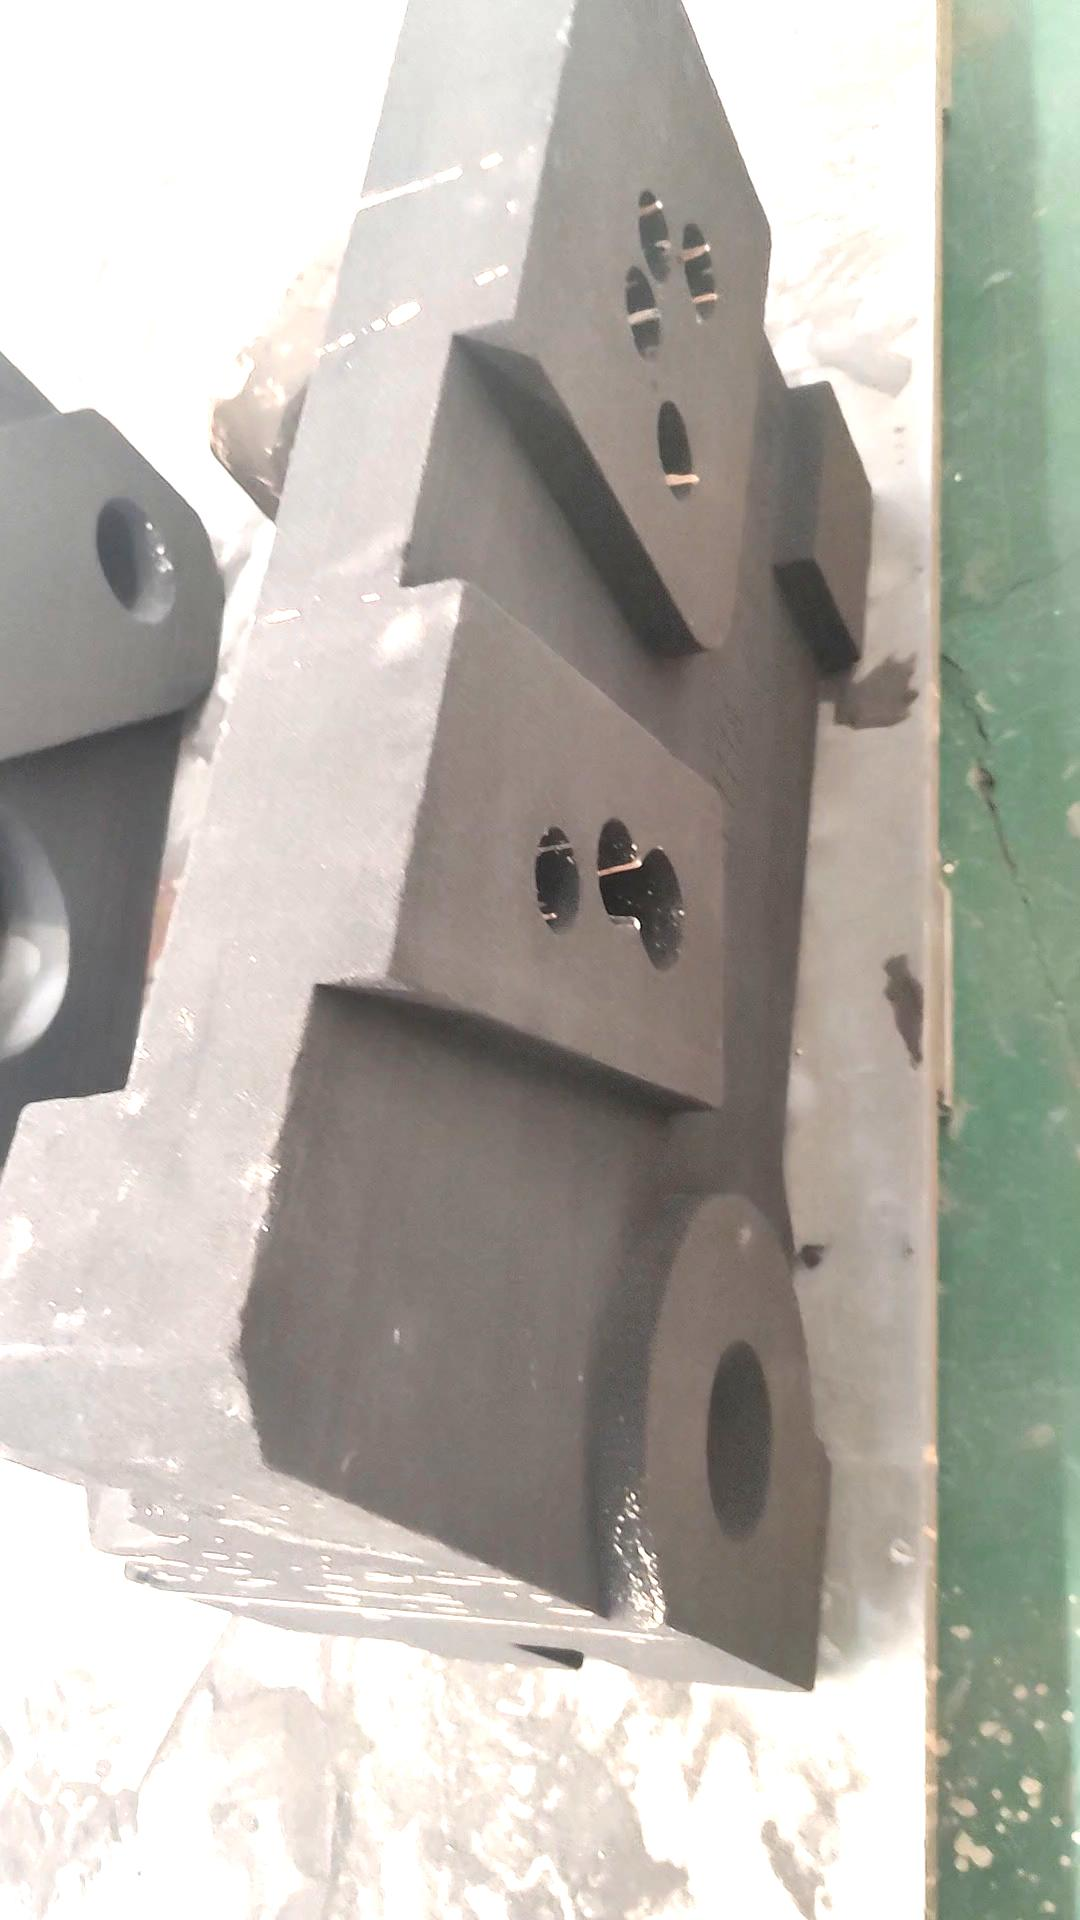pouring hole: (709, 1338, 775, 1540), (98, 498, 175, 622)
